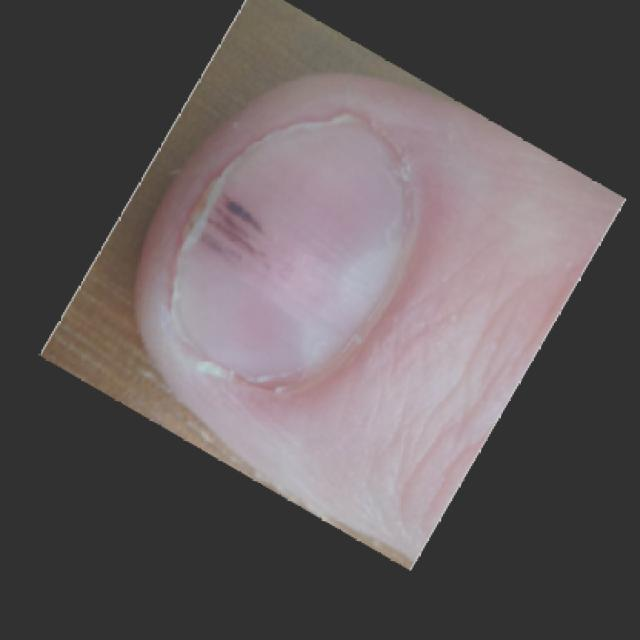Nail: (167, 110, 406, 386)
